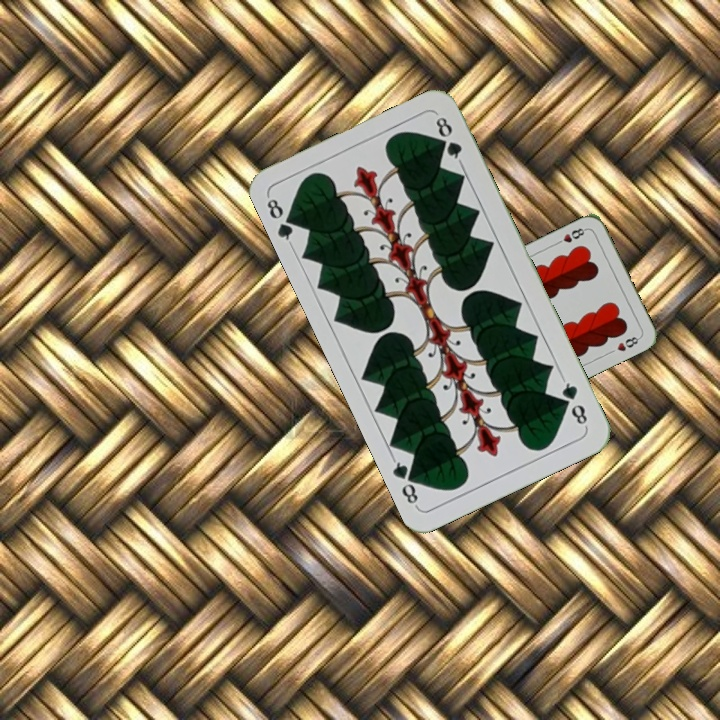G8: (262, 192, 301, 248), (557, 374, 590, 430)
H8: (551, 224, 589, 248)
